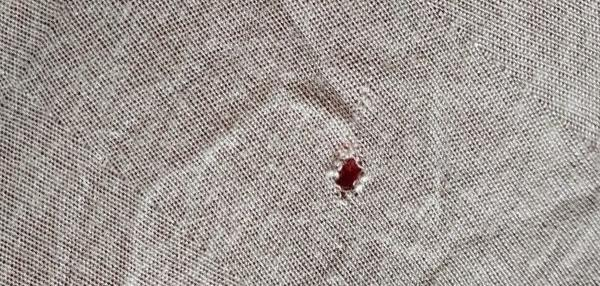hole: (330, 152, 373, 204)
